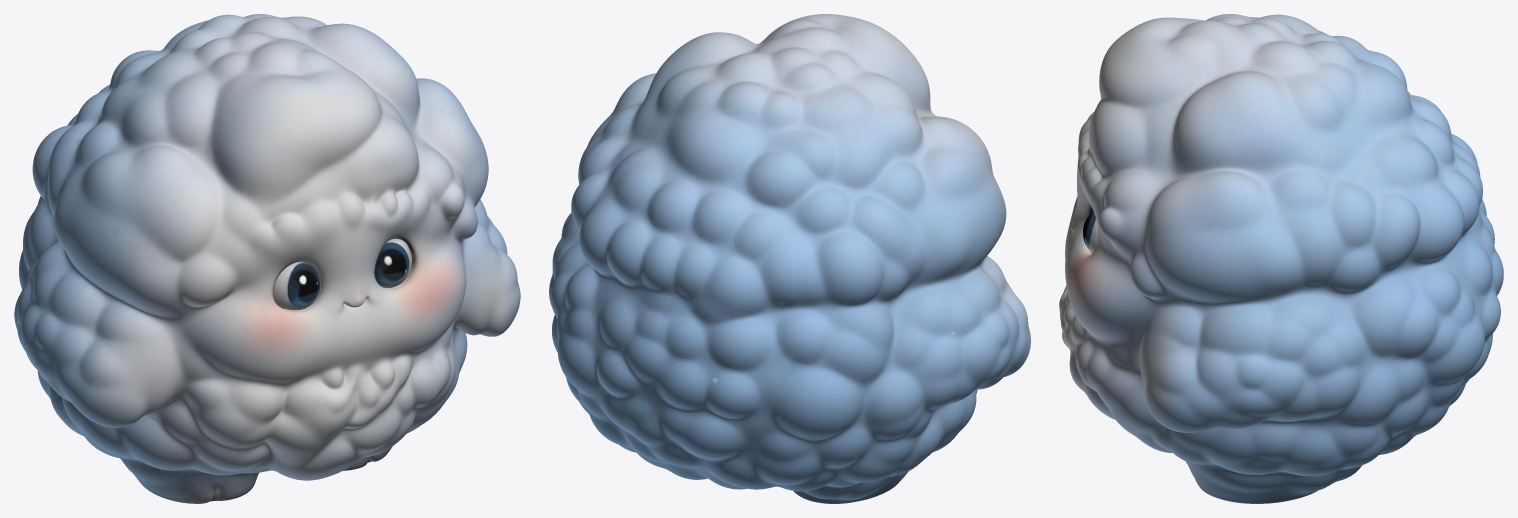
Rendered from cloud.glb.
3 renders of one model, left to right at view 1: azimuth 30°, elevation 25°; view 2: azimuth 150°, elevation 25°; view 3: azimuth 270°, elevation 25°, orthographic. The views are drawn at different scales.
Visible parts, largest first — view 1: Mesh_0; view 2: Mesh_0; view 3: Mesh_0.
Boxes of the visible parts, x1,y1,x2,y2 form: Mesh_0: (14, 14, 520, 503); Mesh_0: (549, 14, 1030, 503); Mesh_0: (1059, 14, 1503, 503).
Size of the model in its own units: 1.11 by 1.01 by 0.9664.
Materials: 1 (1 with a texture image).
